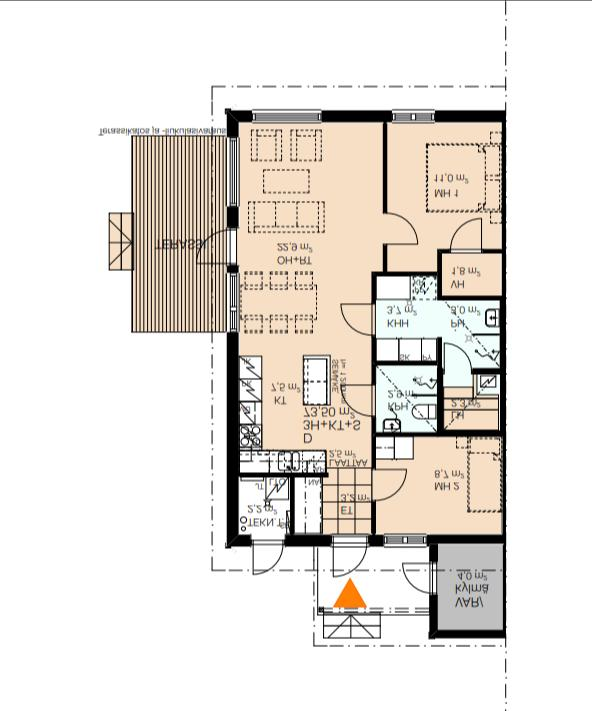bathroom: (376, 361, 438, 434)
door: (190, 224, 240, 270), (326, 532, 372, 580), (366, 464, 410, 504), (447, 214, 486, 258), (338, 298, 380, 338), (340, 378, 380, 420), (250, 534, 288, 578), (379, 209, 421, 248), (400, 560, 441, 596), (439, 339, 475, 375)
perimeter: (226, 109, 508, 639)
window: (219, 132, 244, 212), (246, 104, 326, 128), (220, 266, 244, 333), (378, 529, 432, 551), (386, 104, 441, 125)
